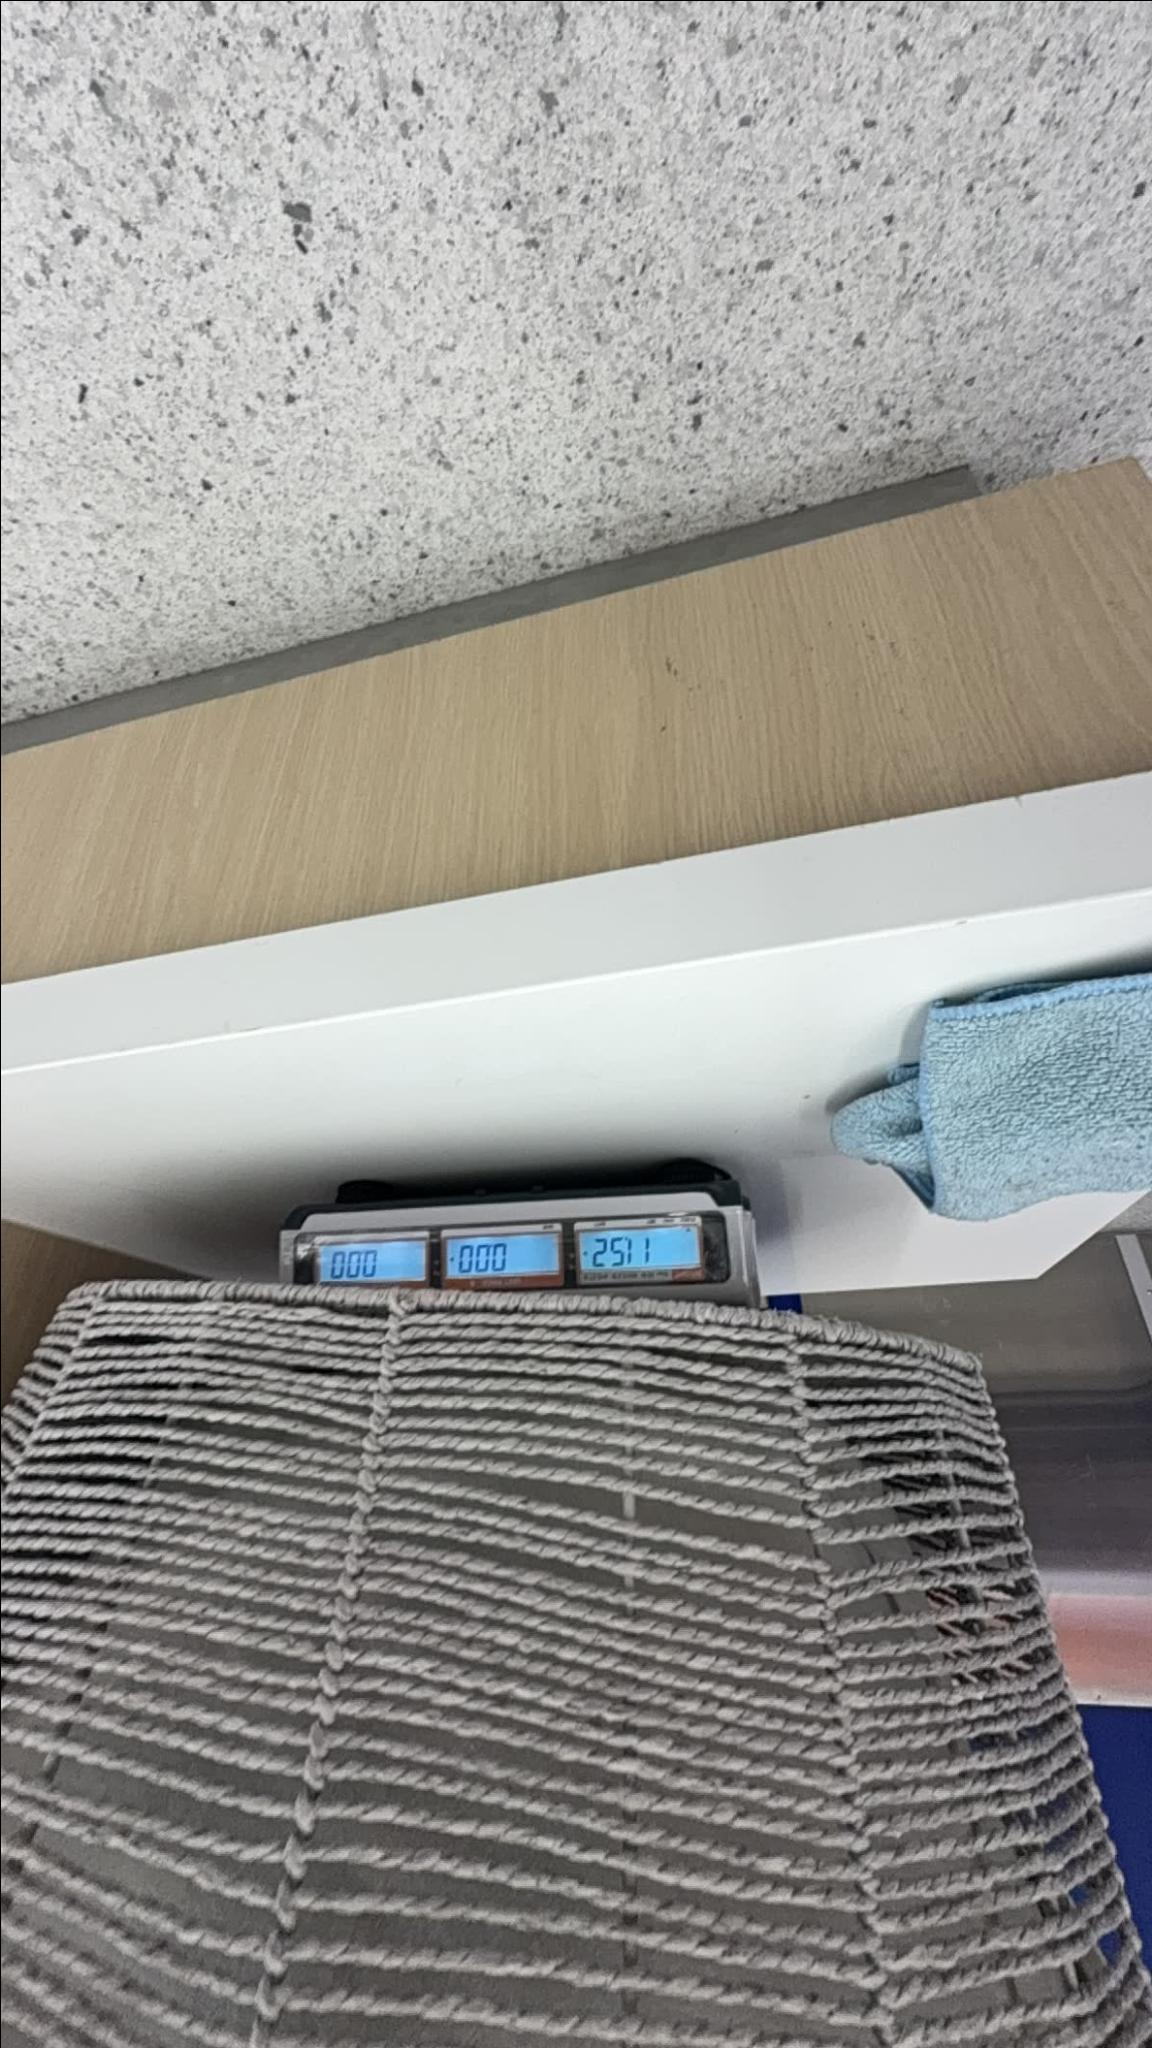Inactive: (308, 1236, 423, 1282), (442, 1235, 560, 1277)
LED-display: (573, 1226, 704, 1274)
